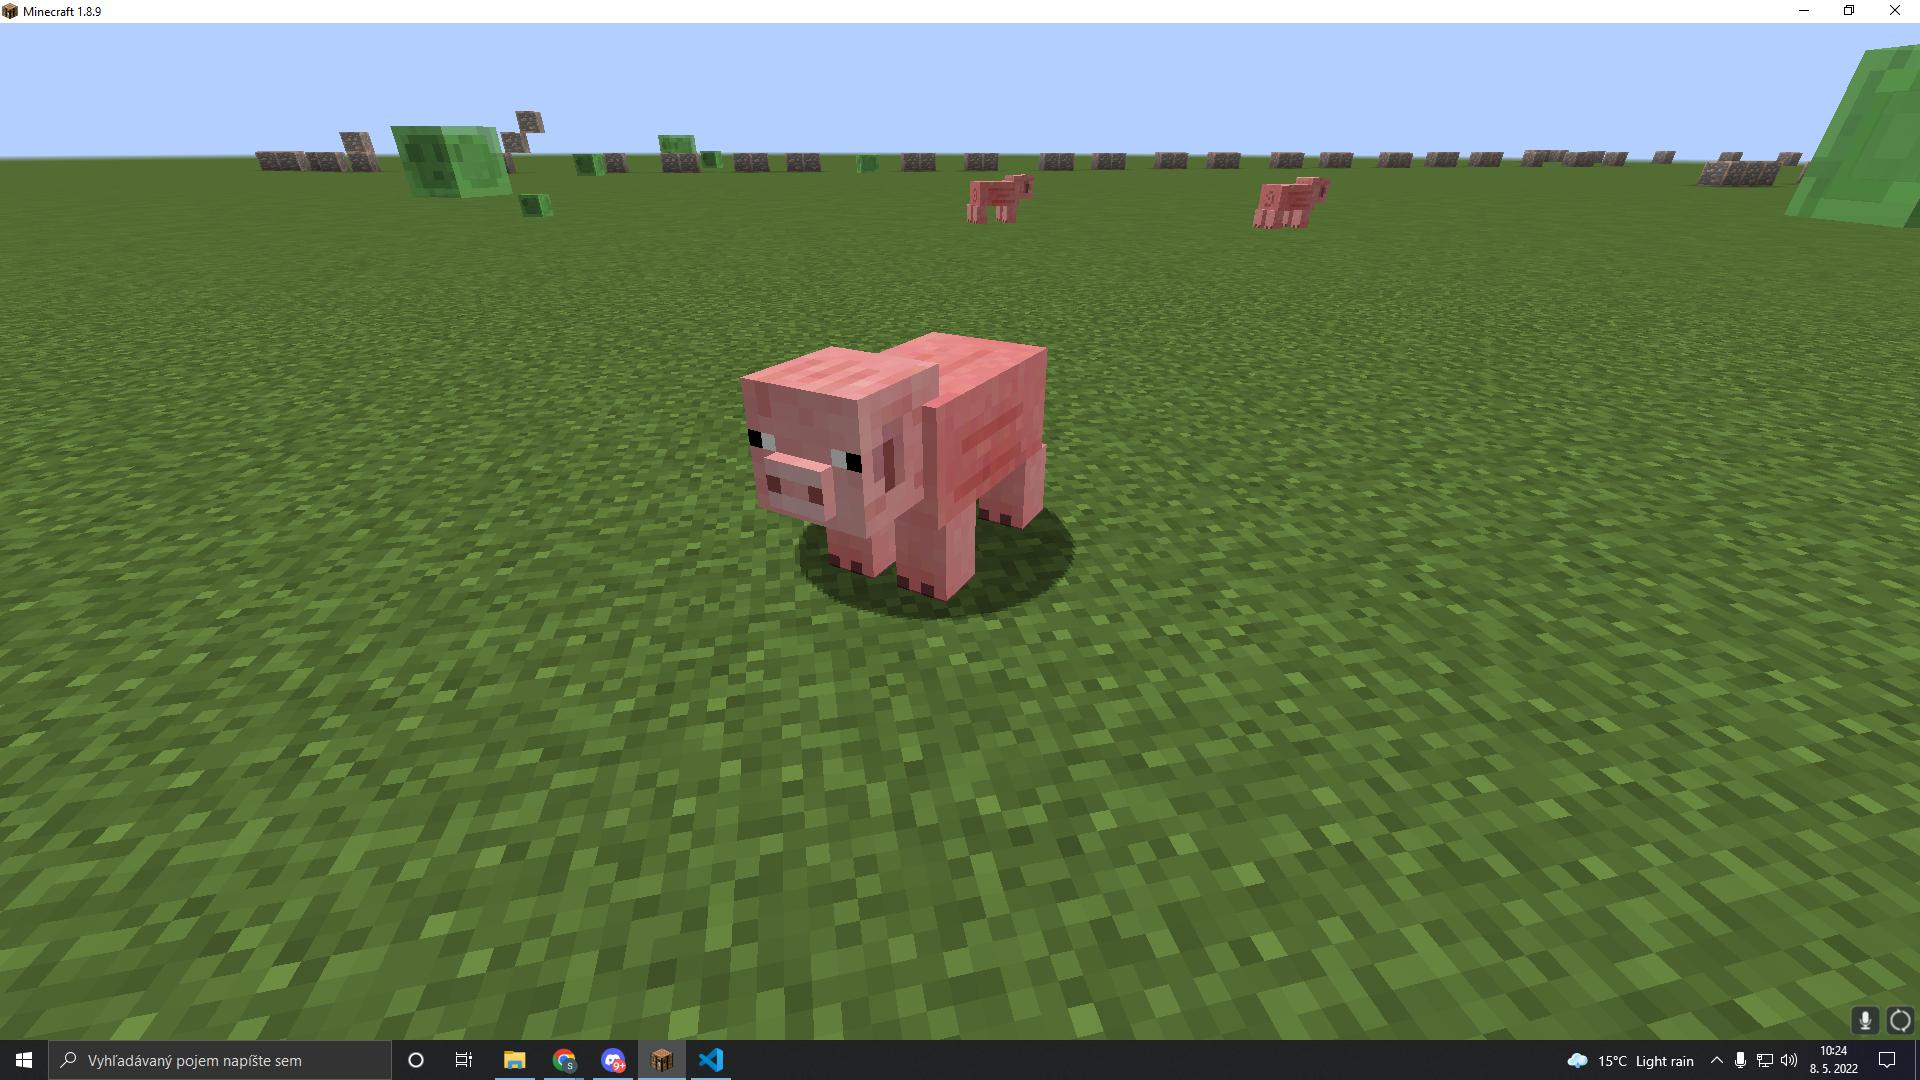pig: (725, 322, 1073, 621), (1244, 165, 1346, 241), (960, 166, 1043, 236)
